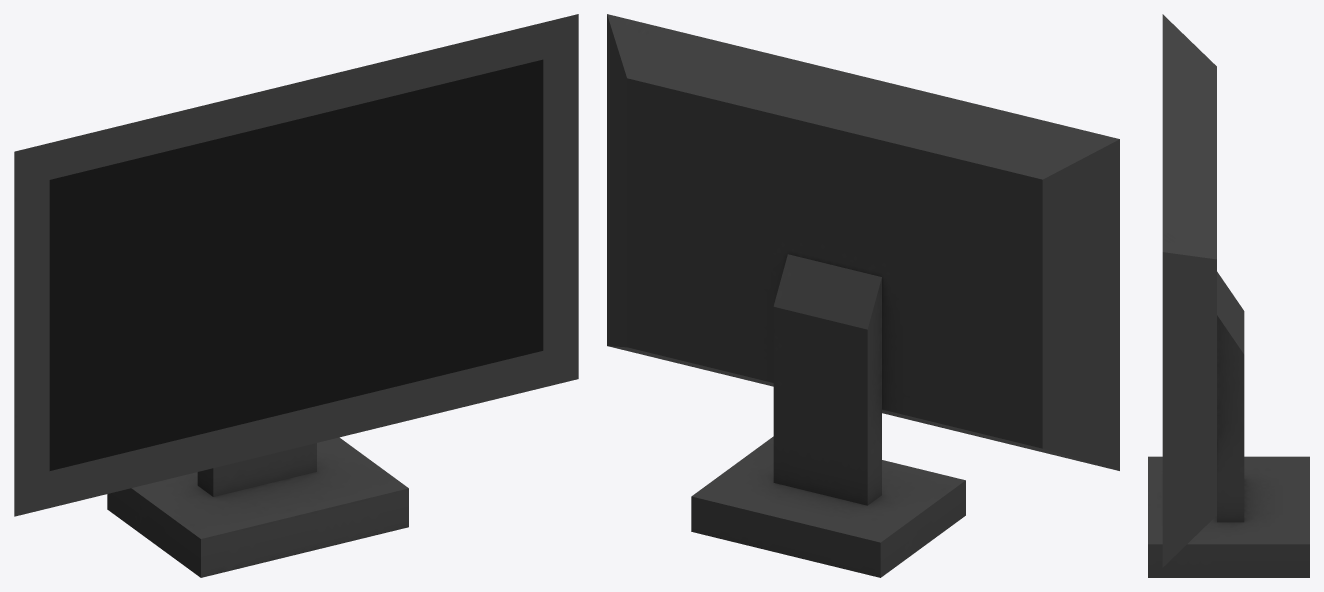
The model's file is Com.FBX.
The picture shows the model from 3 angles, left to right: view 1: azimuth 30°, elevation 25°; view 2: azimuth 150°, elevation 25°; view 3: azimuth 270°, elevation 25°; orthographic projection. The views are drawn at different scales.
Visible parts, largest first — view 1: Com; view 2: Com; view 3: Com.
Boxes of the visible parts, x1,y1,x2,y2 form: Com: [14, 14, 578, 577]; Com: [607, 14, 1119, 577]; Com: [1148, 14, 1309, 577].
Size of the model in its own units: 0.5179 by 0.4068 by 0.1489.
1 material, 1 textured.
